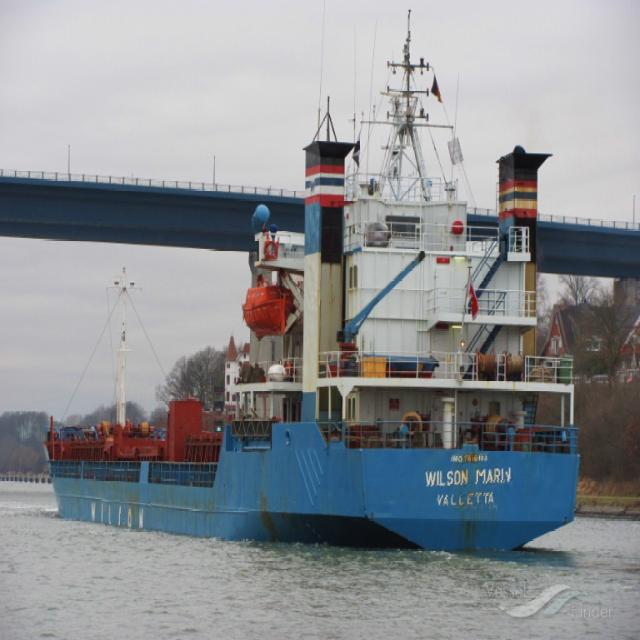OCR: (418, 452, 520, 515), (82, 495, 151, 532)
